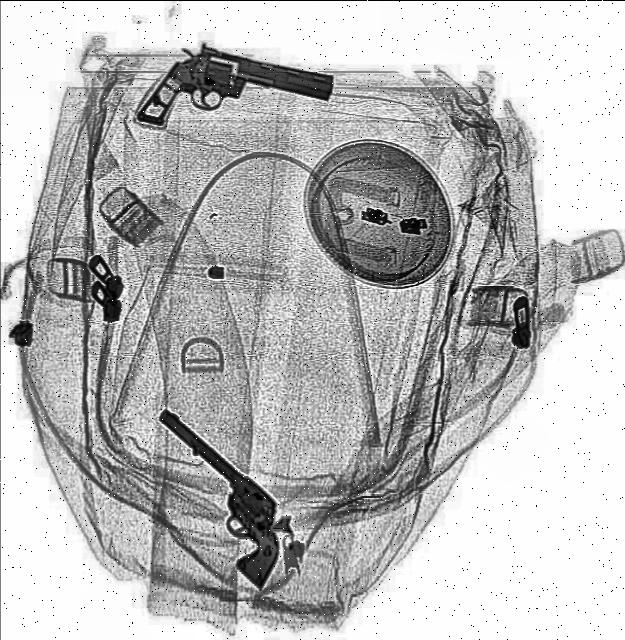Gun: (112, 405, 314, 591), (135, 35, 335, 165)
